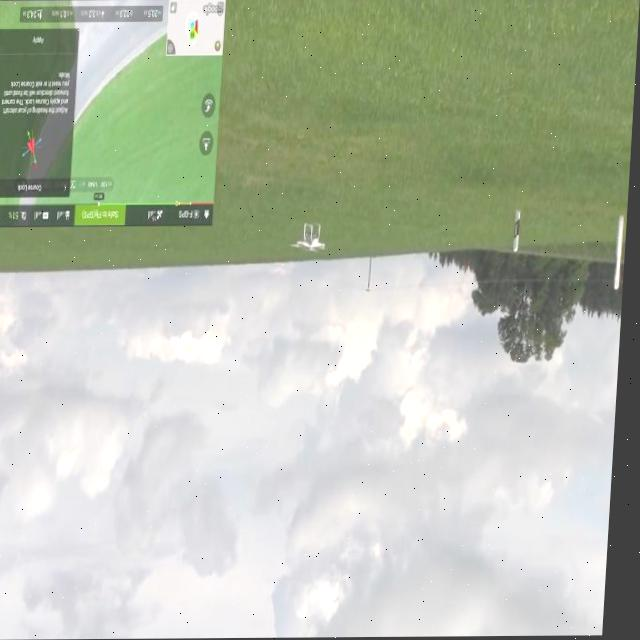drone: (295, 222, 331, 256)
